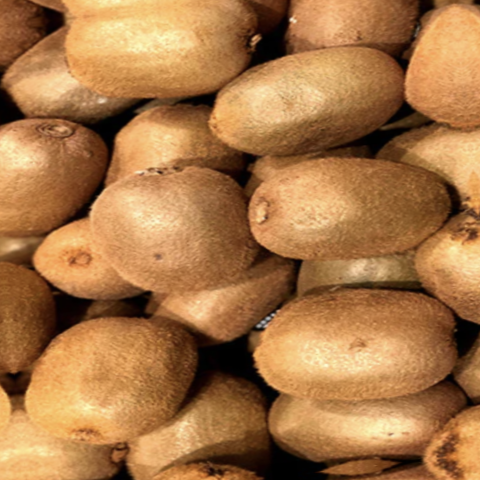kiwi: (240, 268, 478, 417), (75, 129, 270, 307), (11, 300, 222, 464), (191, 20, 407, 180), (233, 138, 468, 275), (52, 0, 259, 122)
